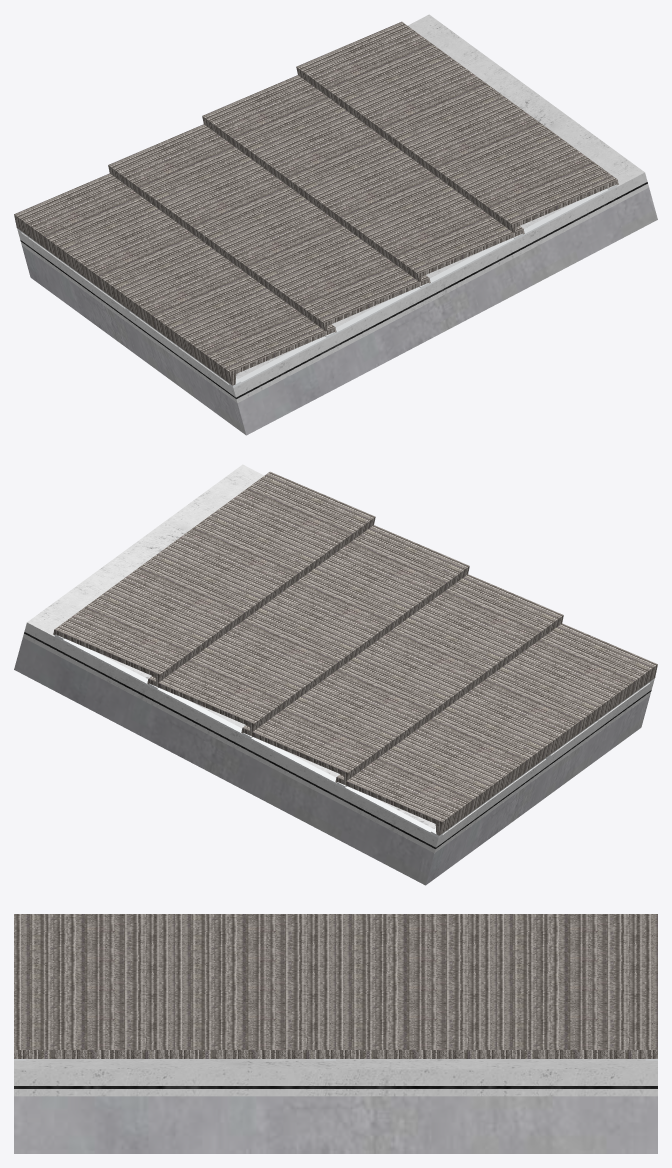
The model's file is steel-batten-tile-roof.glb.
The picture shows the model from 3 angles, top to bottom: view 1: azimuth 30°, elevation 25°; view 2: azimuth 150°, elevation 25°; view 3: azimuth 270°, elevation 25°; orthographic projection. The views are drawn at different scales.
Visible parts, largest first — view 1: 块瓦, 钢筋混凝土屋面板, C15细石混凝土找平层 35mm, 1：3 水泥砂浆找平层 15mm, 顺水条 -25×5，中距600, 高聚物改性沥青防水卷材 3mm; view 2: 块瓦, 钢筋混凝土屋面板, C15细石混凝土找平层 35mm, 1：3 水泥砂浆找平层 15mm, 顺水条 -25×5，中距600, 高聚物改性沥青防水卷材 3mm; view 3: 块瓦, 钢筋混凝土屋面板, C15细石混凝土找平层 35mm, 1：3 水泥砂浆找平层 15mm, 高聚物改性沥青防水卷材 3mm.
Part boxes in pixels (left/top/right/bottom): 块瓦: left=14, top=21, right=618, bottom=385; 钢筋混凝土屋面板: left=22, top=187, right=657, bottom=435; C15细石混凝土找平层 35mm: left=17, top=14, right=647, bottom=397; 1：3 水泥砂浆找平层 15mm: left=20, top=183, right=648, bottom=403; 顺水条 -25×5，中距600: left=17, top=185, right=617, bottom=387; 高聚物改性沥青防水卷材 3mm: left=20, top=182, right=647, bottom=398; 块瓦: left=53, top=471, right=657, bottom=835; 钢筋混凝土屋面板: left=14, top=637, right=649, bottom=885; C15细石混凝土找平层 35mm: left=24, top=464, right=654, bottom=847; 1：3 水泥砂浆找平层 15mm: left=23, top=633, right=651, bottom=852; 顺水条 -25×5，中距600: left=54, top=635, right=654, bottom=837; 高聚物改性沥青防水卷材 3mm: left=24, top=632, right=651, bottom=848; 块瓦: left=14, top=914, right=657, bottom=1058; 钢筋混凝土屋面板: left=14, top=1096, right=657, bottom=1153; C15细石混凝土找平层 35mm: left=14, top=1059, right=657, bottom=1085; 1：3 水泥砂浆找平层 15mm: left=14, top=1089, right=657, bottom=1096; 高聚物改性沥青防水卷材 3mm: left=14, top=1086, right=657, bottom=1088.
Bounding box in the file's own units: 1.51 × 0.5582 × 1.32.
Materials: 6 (5 with a texture image).
